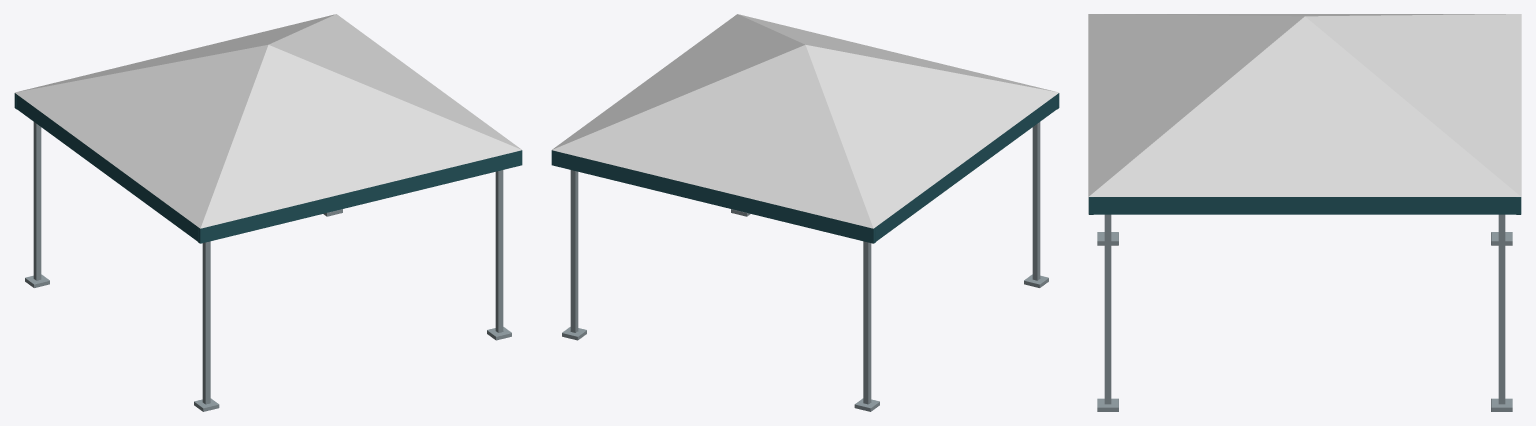
The model's file is community-event-tent.glb.
3 views of the same model, side by side, from view 1: azimuth 30°, elevation 25°; view 2: azimuth 150°, elevation 25°; view 3: azimuth 270°, elevation 25° (orthographic). The views are drawn at different scales.
Parts seen in each view (by area): view 1: Pyramid_Canopy, Valance, Side_Valance, Leg, Leg.002, Leg.001; view 2: Pyramid_Canopy, Valance.001, Side_Valance, Leg.001, Leg.003, Leg; view 3: Pyramid_Canopy, Side_Valance.001, Leg.002, Leg.003.
Boxes of the visible parts, bbox=[...] form: Pyramid_Canopy: bbox=[15, 14, 522, 228]; Valance: bbox=[198, 150, 522, 243]; Side_Valance: bbox=[17, 95, 197, 241]; Leg: bbox=[202, 241, 210, 404]; Leg.002: bbox=[495, 170, 503, 332]; Leg.001: bbox=[33, 122, 41, 280]; Pyramid_Canopy: bbox=[551, 14, 1058, 228]; Valance.001: bbox=[551, 150, 875, 243]; Side_Valance: bbox=[876, 95, 1056, 241]; Leg.001: bbox=[863, 241, 871, 404]; Leg.003: bbox=[570, 170, 578, 332]; Leg: bbox=[1032, 122, 1040, 280]; Pyramid_Canopy: bbox=[1088, 14, 1521, 196]; Side_Valance.001: bbox=[1093, 197, 1516, 214]; Leg.002: bbox=[1104, 214, 1111, 404]; Leg.003: bbox=[1498, 214, 1505, 404].
Size of the model in its own units: 4.4 by 3.45 by 4.4.
